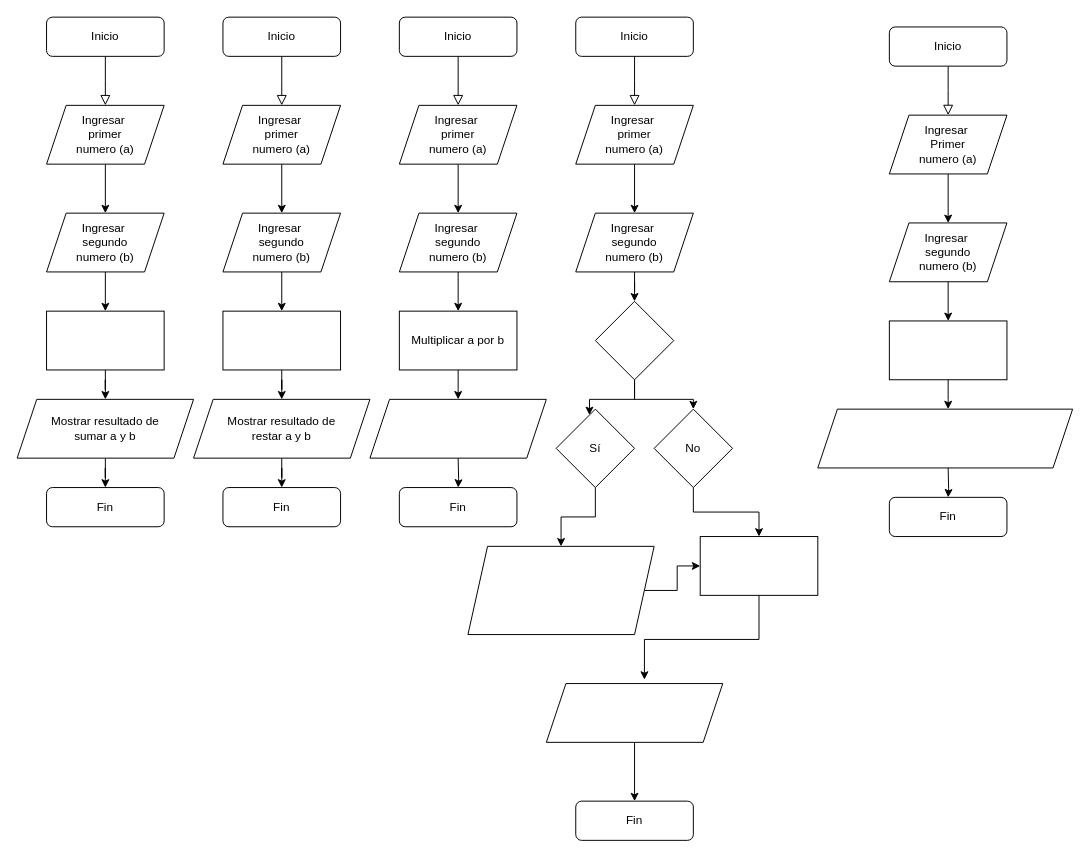
The diagram is 1090 pixels wide and 858 high, and some of its shapes have lost their labels. Each missing label, with the box of its shape:
"No se puede dividir por 0" Ingresar segundo numero (b) (distinto de 0): (467, 545, 654, 635)
Aplicar modulo b al valor de a: (888, 320, 1007, 380)
Dividir a por b: (699, 536, 818, 595)
Es b = 0?: (594, 300, 674, 380)
Mostrar resultado de aplicar modulo de valor b al valor a: (817, 408, 1073, 468)
Mostrar resultado de dividir a por b: (545, 683, 723, 742)
Mostrar resultado de multiplicar a por b: (369, 398, 546, 458)
Restar a y b: (222, 310, 341, 370)
Sumar a y b: (46, 310, 164, 370)
